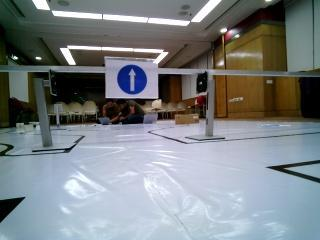straight: (104, 57, 162, 99)
